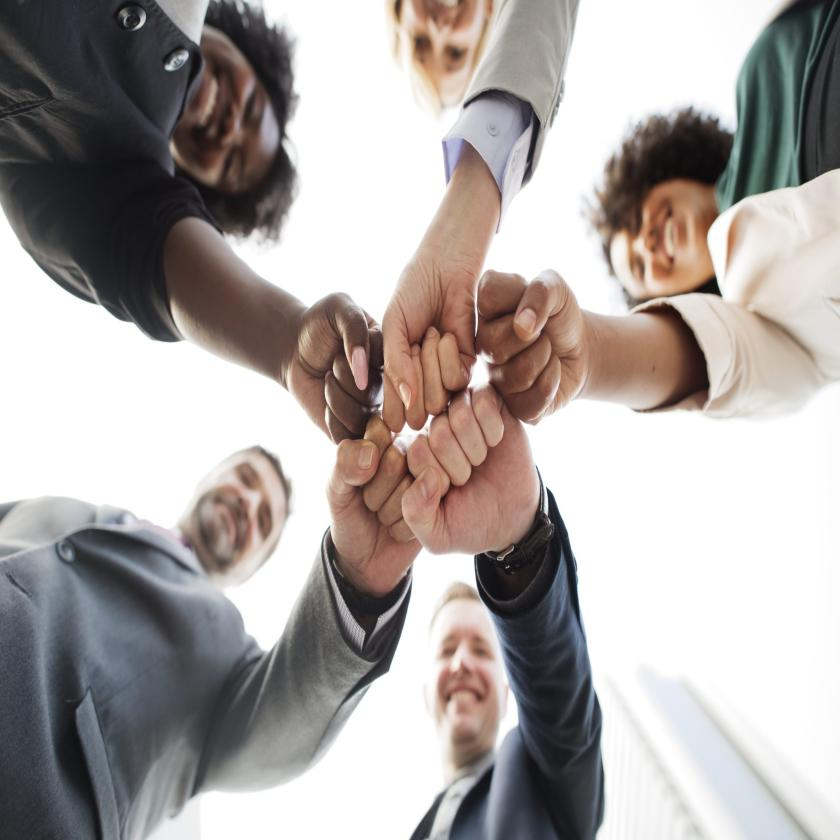Sin_casco: (580, 128, 739, 326), (173, 19, 304, 230), (423, 578, 511, 773), (188, 435, 295, 574), (393, 0, 499, 133)
